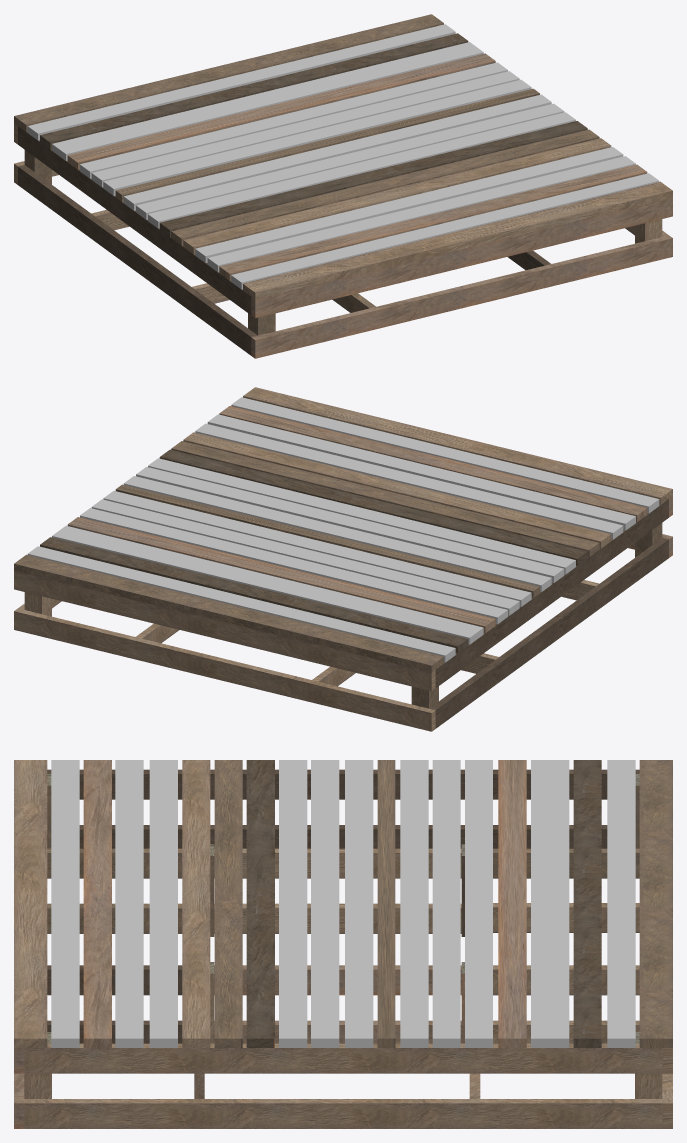
Rendered from WoodFloorPeiceA.fbx.
3 views of the same model, one above another, from view 1: azimuth 30°, elevation 25°; view 2: azimuth 150°, elevation 25°; view 3: azimuth 270°, elevation 25° (orthographic). The views are drawn at different scales.
Parts seen in each view (by area): view 1: WoodFloorPeiceA; view 2: WoodFloorPeiceA; view 3: WoodFloorPeiceA.
Boxes of the visible parts, x1,y1,x2,y2 form: WoodFloorPeiceA: [14, 14, 672, 358]; WoodFloorPeiceA: [14, 387, 672, 731]; WoodFloorPeiceA: [14, 760, 672, 1128].
Size of the model in its own units: 374 by 56.6 by 374.
